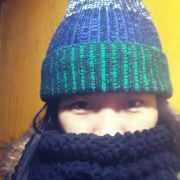WRONG: (56, 69, 161, 174)
